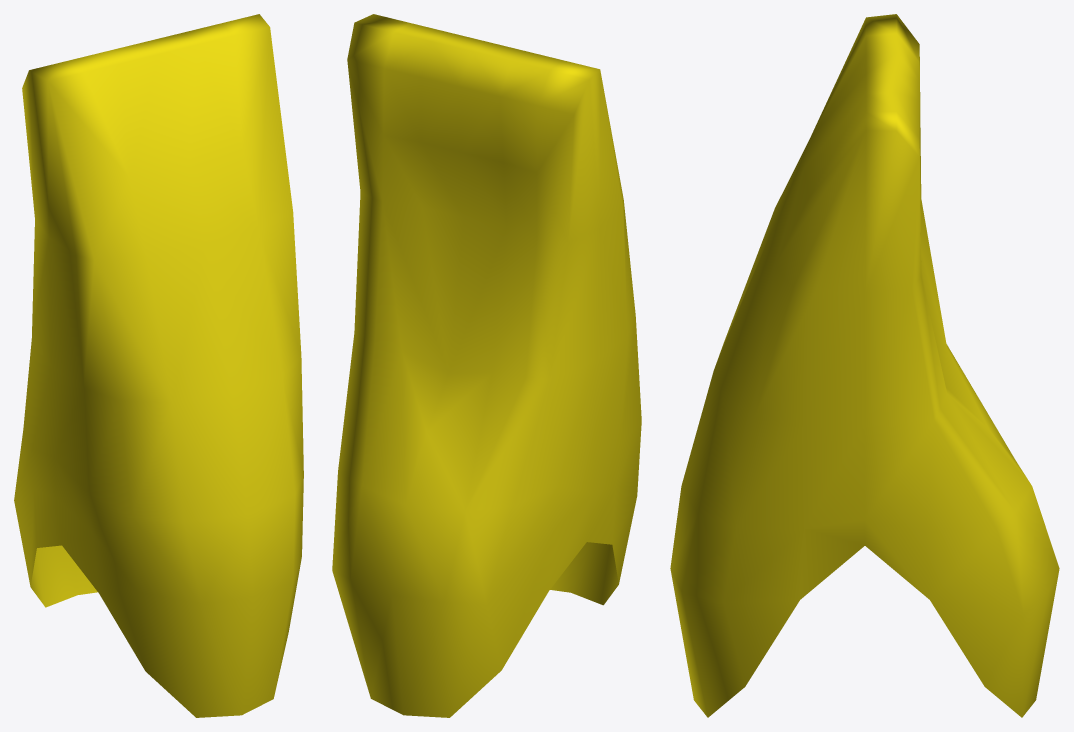
The model's file is D42N_NUC.obj.
The picture shows the model from 3 angles, left to right: view 1: azimuth 30°, elevation 25°; view 2: azimuth 150°, elevation 25°; view 3: azimuth 270°, elevation 25°; orthographic projection. The views are drawn at different scales.
Visible parts, largest first — view 1: D42N_NUC; view 2: D42N_NUC; view 3: D42N_NUC.
Boxes of the visible parts, bbox=[...] form: D42N_NUC: bbox=[14, 14, 303, 717]; D42N_NUC: bbox=[332, 14, 641, 717]; D42N_NUC: bbox=[670, 14, 1059, 717].
Bounding box in the file's own units: 2.85 × 7.12 × 4.
